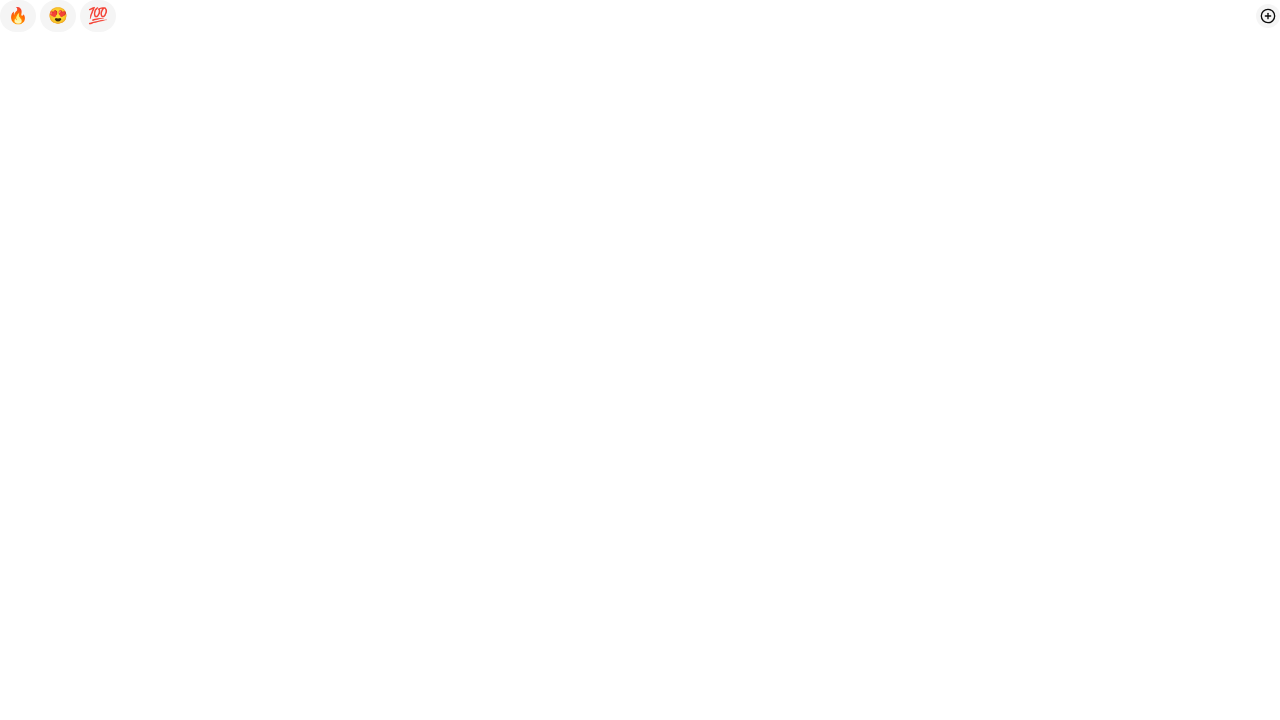
Test case: EmojiReactions › passes rating mode to individual reactions
This screenshot has width=1280, height=720.
Note: Click on a reaction
Click the button "🔥" at (18, 16), box [0, 0, 36, 32]
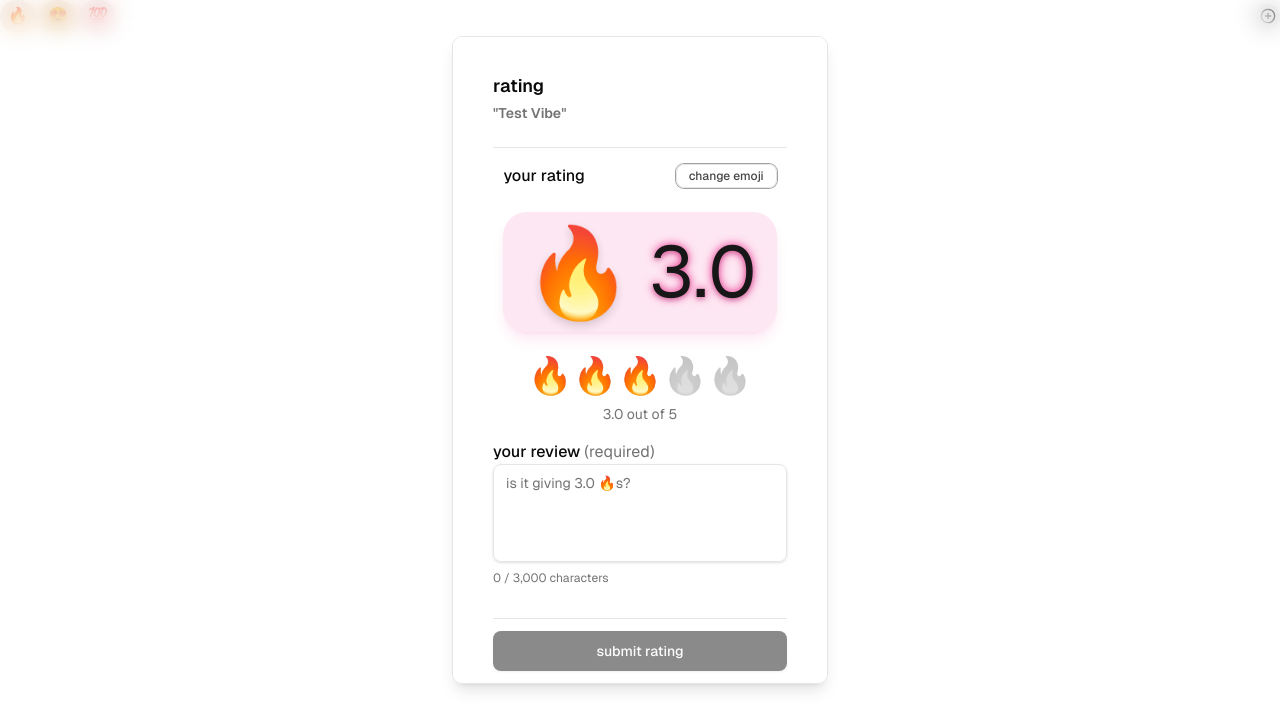
Check: the dialog is shown, box [452, 36, 828, 684]
